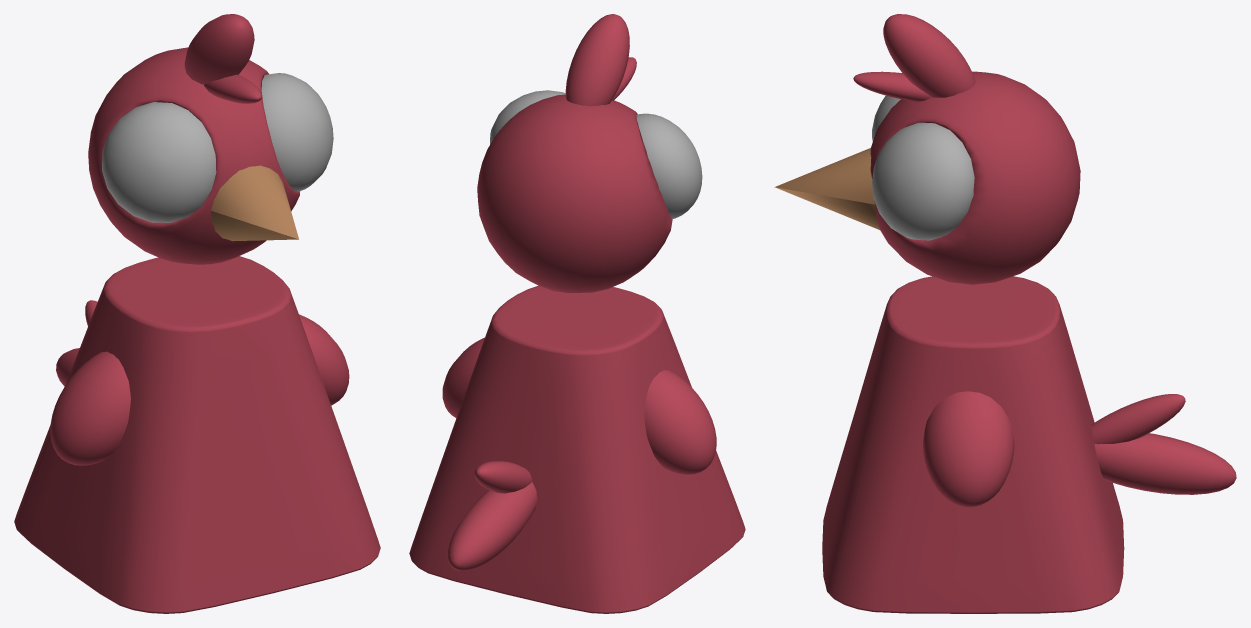
Rendered from birby_mesh.fbx.
The picture shows the model from 3 angles, left to right: view 1: azimuth 30°, elevation 25°; view 2: azimuth 150°, elevation 25°; view 3: azimuth 270°, elevation 25°; orthographic projection. The views are drawn at different scales.
Parts seen in each view (by area): view 1: birb, eyes_geo, head_geo, bracinhos_R_geo, boca_top_geo, pSphere44, bracinhos_L_geo, boca_bot_geo, pSphere45, tail_01_geo; view 2: birb, head_geo, bracinhos_R_geo, eyes_geo, tail_01_geo, pSphere44, bracinhos_L_geo, tail_02_geo; view 3: birb, head_geo, eyes_geo, bracinhos_L_geo, tail_01_geo, pSphere44, boca_top_geo, tail_02_geo, pSphere45, boca_bot_geo.
Boxes of the visible parts, box(x1,y1,x2,y2) form: birb: box(14, 256, 380, 613); eyes_geo: box(102, 73, 333, 222); head_geo: box(88, 47, 299, 264); bracinhos_R_geo: box(50, 351, 130, 465); boca_top_geo: box(211, 165, 298, 239); pSphere44: box(184, 14, 254, 84); bracinhos_L_geo: box(299, 314, 349, 405); boca_bot_geo: box(211, 211, 298, 241); pSphere45: box(204, 74, 262, 103); tail_01_geo: box(56, 348, 79, 386); birb: box(409, 285, 745, 613); head_geo: box(477, 94, 672, 293); bracinhos_R_geo: box(644, 370, 716, 474); eyes_geo: box(490, 90, 702, 218); tail_01_geo: box(447, 482, 537, 570); pSphere44: box(565, 14, 629, 106); bracinhos_L_geo: box(442, 337, 484, 417); tail_02_geo: box(474, 461, 531, 493); birb: box(822, 276, 1124, 613); head_geo: box(870, 71, 1080, 284); eyes_geo: box(872, 95, 974, 240); bracinhos_L_geo: box(923, 391, 1014, 507); tail_01_geo: box(1094, 433, 1236, 494); pSphere44: box(883, 14, 975, 97); boca_top_geo: box(774, 148, 874, 204); tail_02_geo: box(1091, 394, 1185, 444); pSphere45: box(853, 71, 931, 101); boca_bot_geo: box(775, 187, 880, 229).
Bounding box in the file's own units: 83.11 × 151 × 118.
